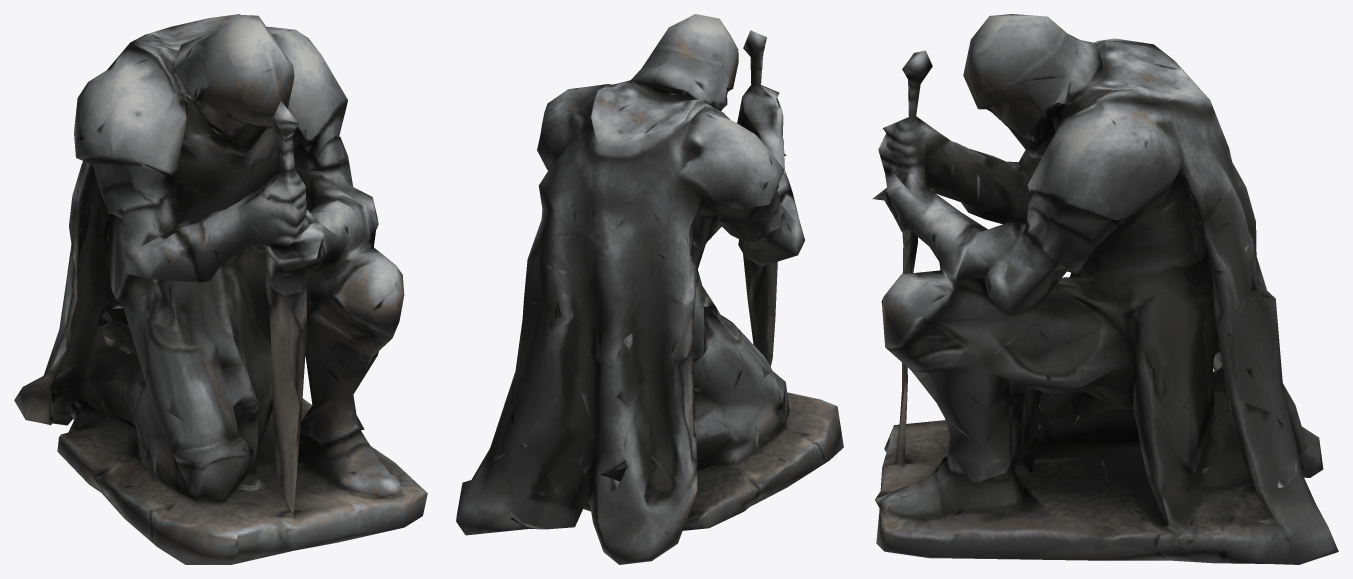
The model's file is guardian_statue.glb.
3 renders of one model, left to right at view 1: azimuth 30°, elevation 25°; view 2: azimuth 150°, elevation 25°; view 3: azimuth 270°, elevation 25°, orthographic. The views are drawn at different scales.
Size of the model in its own units: 1.1 by 1.99 by 1.72.
1 material, 1 textured.
